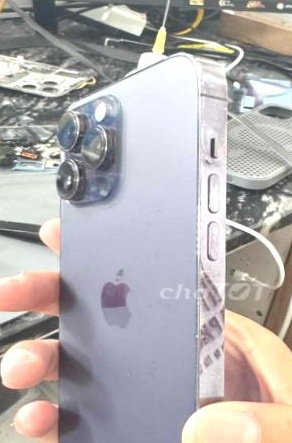scratch: (189, 123, 226, 345), (201, 62, 229, 103), (82, 162, 103, 186), (67, 142, 83, 153)
